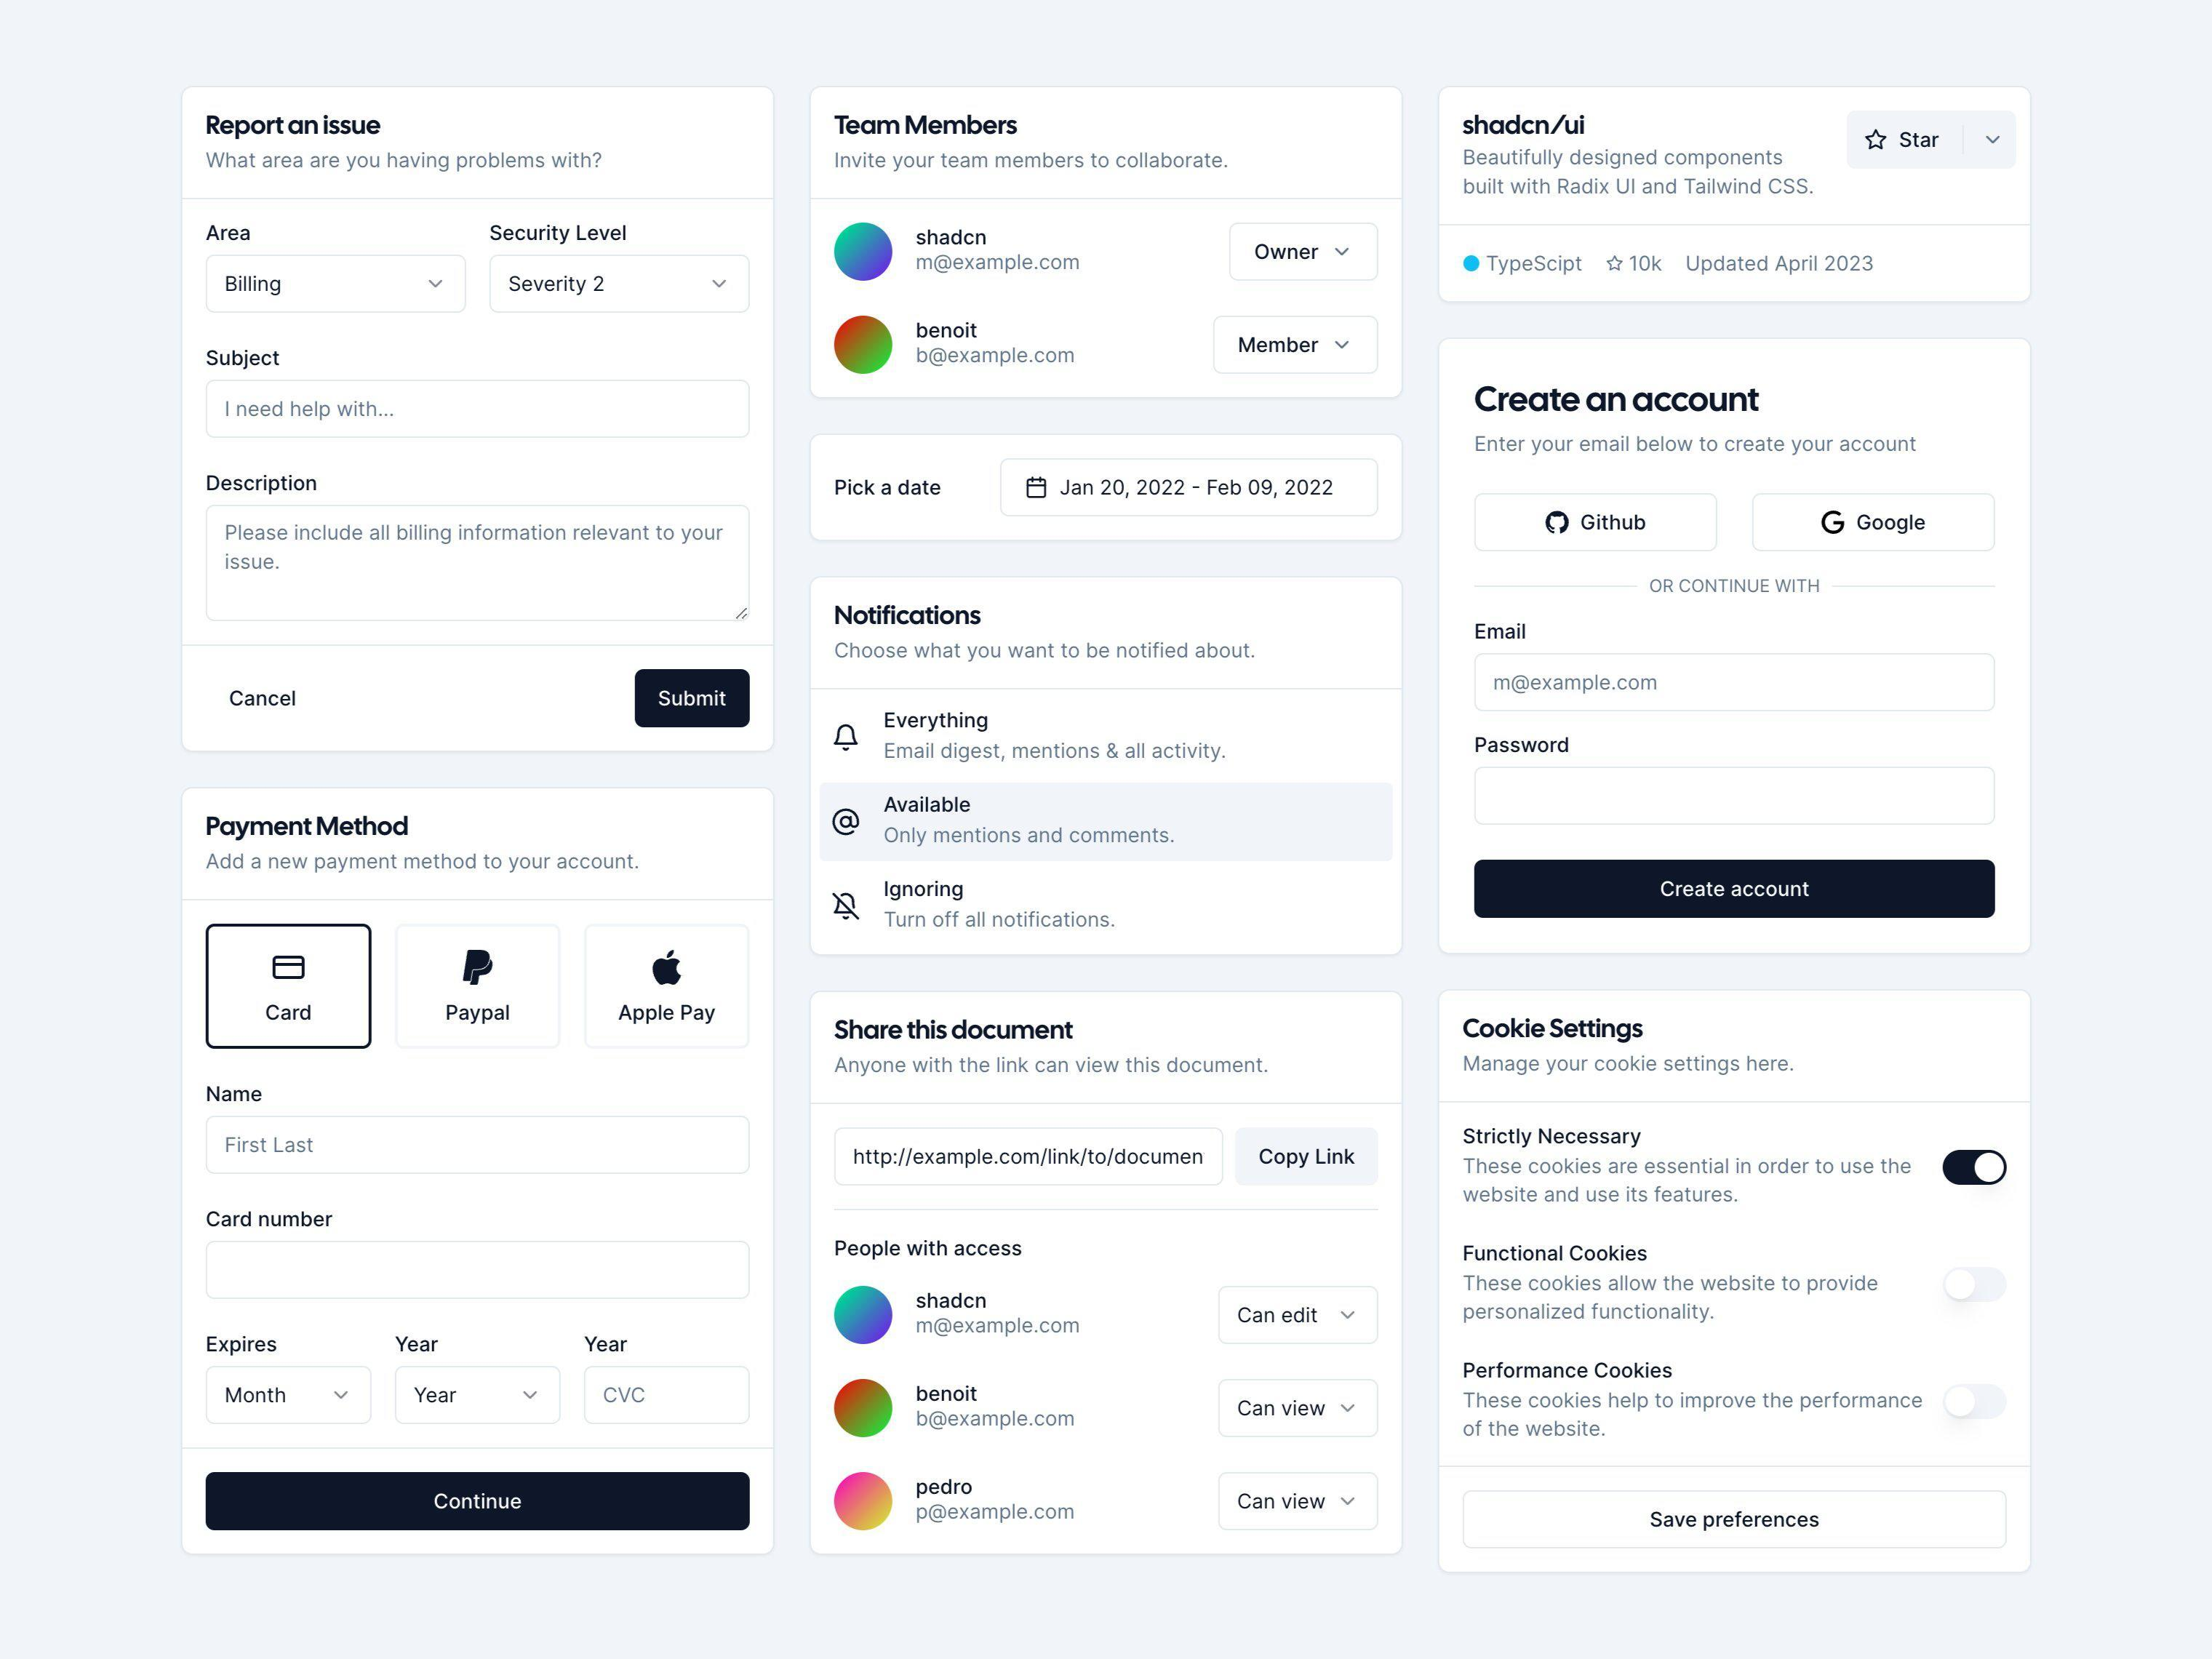button: (1461, 1488, 2010, 1553), (207, 1474, 753, 1534), (1475, 861, 1994, 920), (1750, 495, 1992, 552), (1473, 497, 1717, 551), (1239, 1133, 1381, 1188), (634, 666, 750, 727)
dropdown: (483, 251, 753, 312), (209, 254, 467, 312), (209, 1366, 370, 1429), (1222, 1471, 1381, 1532), (1225, 1286, 1381, 1347), (397, 1364, 558, 1422), (1217, 1382, 1375, 1439), (1848, 112, 2015, 166), (1231, 225, 1381, 282), (1217, 319, 1381, 371)
icon: (826, 720, 868, 762), (458, 945, 497, 990), (828, 803, 866, 847), (650, 946, 689, 990), (826, 885, 863, 924), (268, 951, 309, 985)
input: (1478, 763, 1999, 831), (207, 1239, 751, 1303), (206, 1115, 751, 1178), (207, 380, 751, 443), (1473, 652, 2001, 713), (840, 1129, 1224, 1185), (1008, 462, 1377, 518), (584, 1366, 746, 1425)
label: (227, 676, 309, 720), (615, 999, 722, 1028), (443, 999, 516, 1026), (265, 1002, 316, 1025)
switch: (1935, 1145, 2013, 1188), (1944, 1373, 2012, 1422), (1944, 1263, 2015, 1309)
